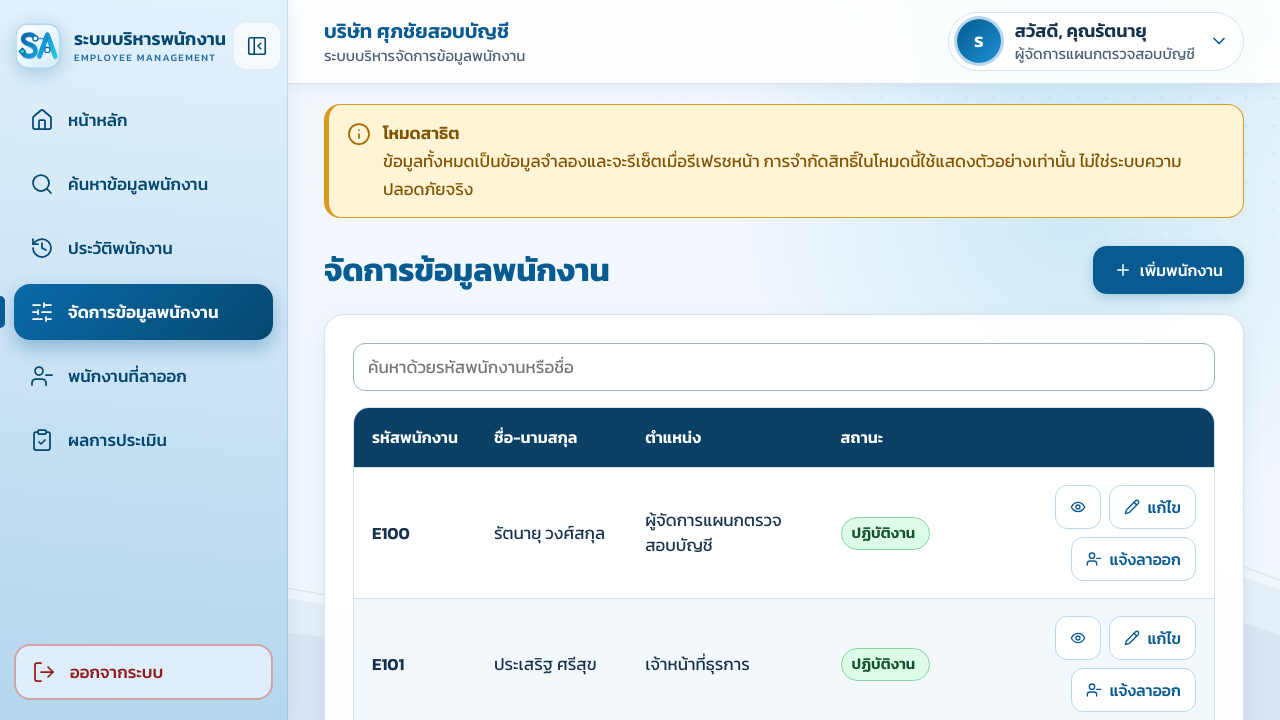
Test: direct URL navigation respects the roles › the management form shows the department as a fixed read-only value
Click the button "เพิ่มพนักงาน".
click(1168, 270)  # box [1093,246,1244,294]
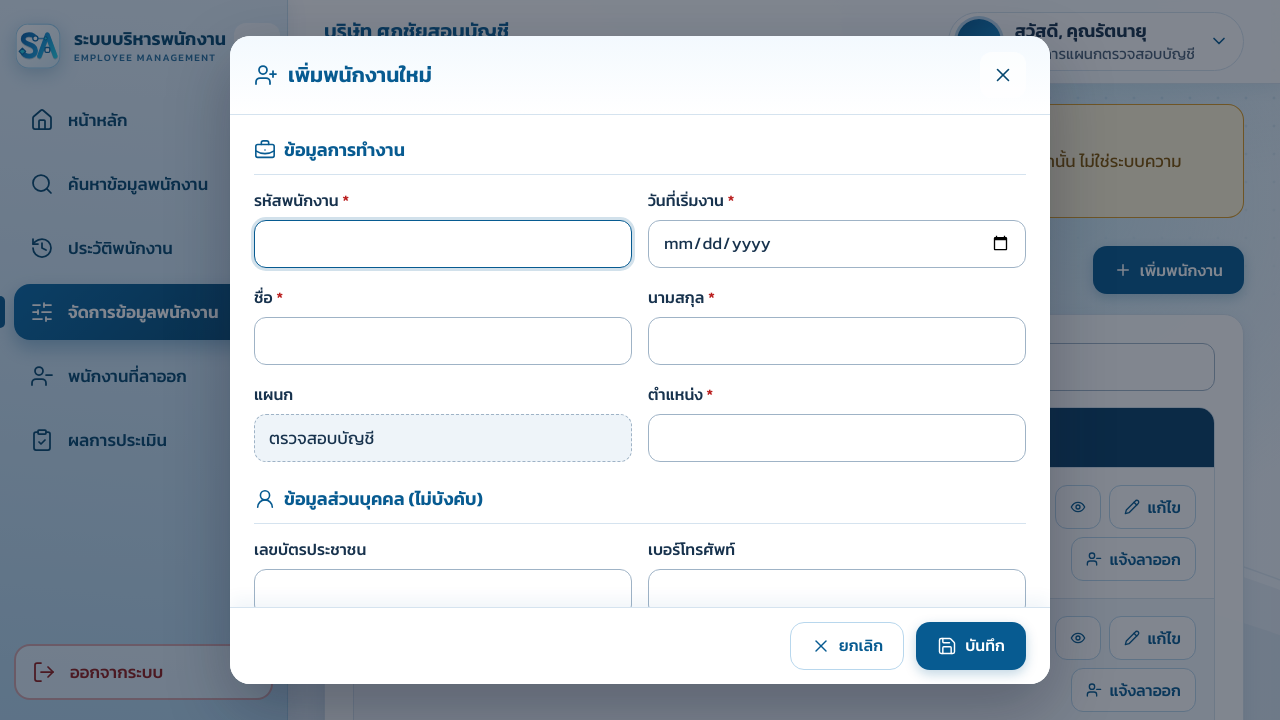
Now the field labelled "แผนก" holds "ตรวจสอบบัญชี", box [254,414,632,462]
